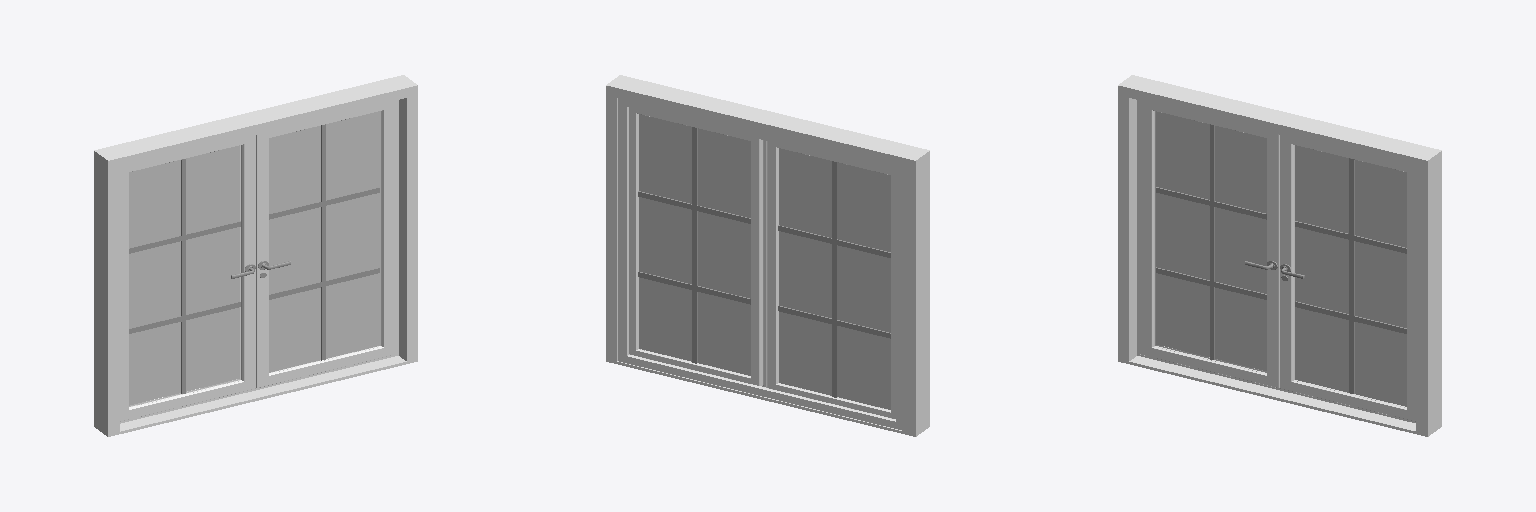
The model's file is window.obj.
3 renders of one model, left to right at view 1: azimuth 30°, elevation 25°; view 2: azimuth 150°, elevation 25°; view 3: azimuth 330°, elevation 25°, orthographic.
Parts seen in each view (by area): view 1: 16639_12_Pane_Casement_Window-White_V1; view 2: 16639_12_Pane_Casement_Window-White_V1; view 3: 16639_12_Pane_Casement_Window-White_V1.
Part boxes in pixels (left/top/right/bottom): 16639_12_Pane_Casement_Window-White_V1: left=94, top=75, right=417, bottom=436; 16639_12_Pane_Casement_Window-White_V1: left=606, top=75, right=929, bottom=436; 16639_12_Pane_Casement_Window-White_V1: left=1118, top=75, right=1441, bottom=436.
Size of the model in its own units: 1.57 by 1.34 by 0.127.